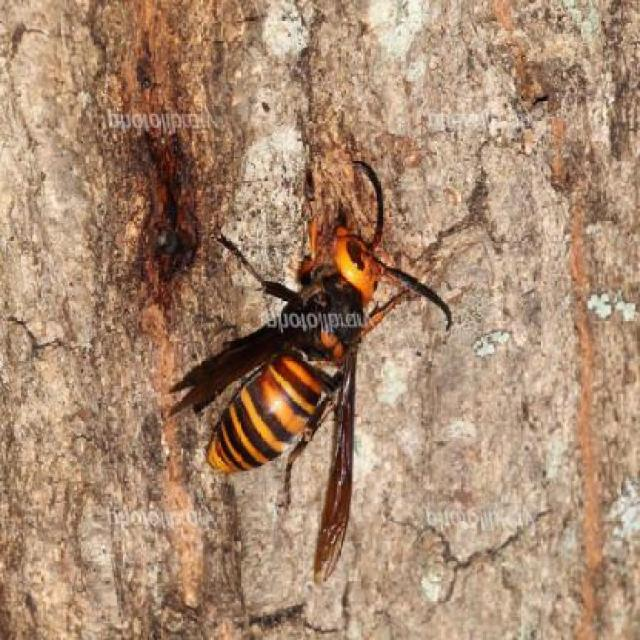Wasp: (196, 142, 397, 585)
